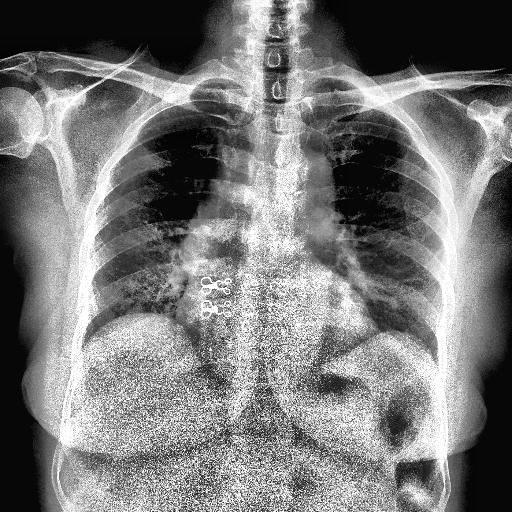0- Aortic enlargement: (266, 145, 339, 215), (277, 152, 335, 228), (276, 148, 337, 212)
11- Pleural thickening: (200, 78, 242, 88)
3- Cardiomegaly: (176, 278, 379, 354), (173, 296, 380, 358), (172, 301, 380, 362)
7- Lung Opacity: (182, 119, 250, 281)
